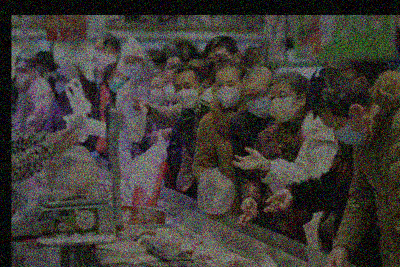with_mask: (327, 119, 371, 148), (269, 89, 298, 124), (243, 88, 272, 119), (215, 78, 243, 107), (174, 80, 199, 108), (123, 57, 145, 81), (105, 70, 127, 92), (163, 76, 177, 103), (149, 81, 163, 104), (14, 68, 29, 86), (53, 78, 66, 93)
